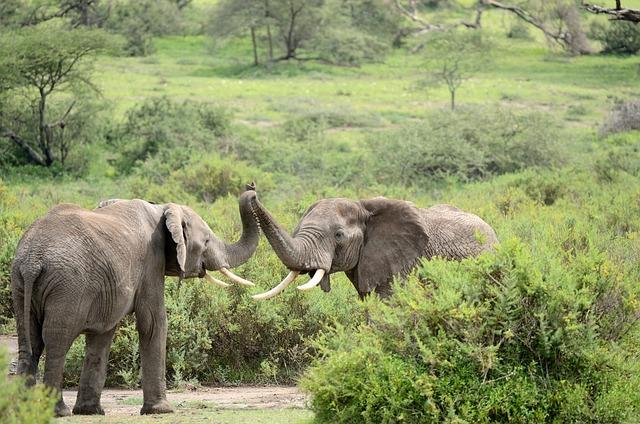Non_Gorille: (10, 57, 548, 424)
